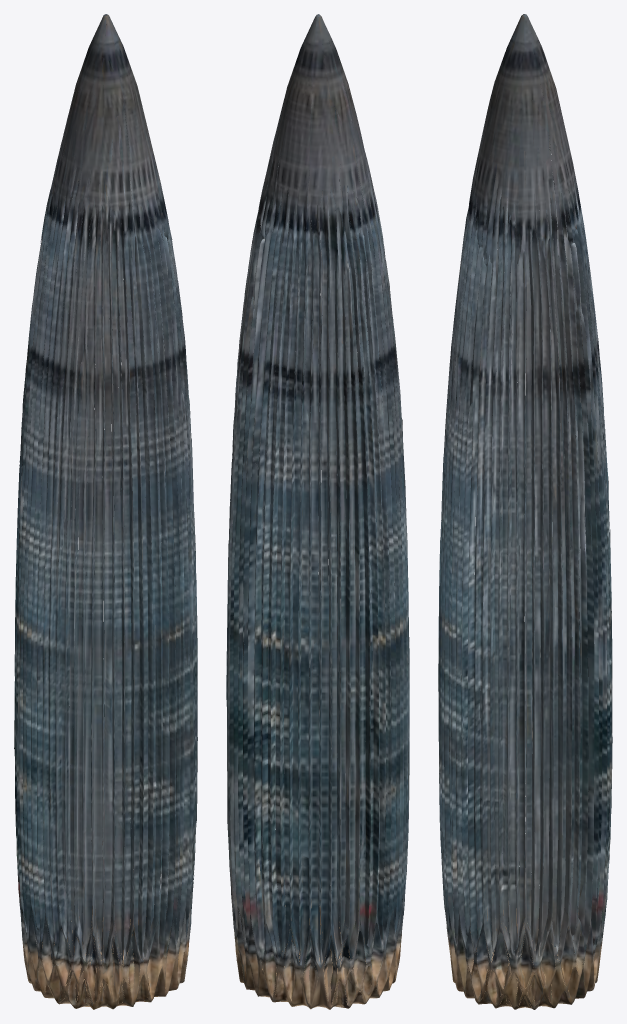
File: asset-08.glb
3 views of the same model, side by side, from view 1: azimuth 30°, elevation 25°; view 2: azimuth 150°, elevation 25°; view 3: azimuth 270°, elevation 25° (orthographic).
Parts seen in each view (by area): view 1: node_0; view 2: node_0; view 3: node_0.
Part boxes in pixels (x1,y1,x2,y2): node_0: (14, 14, 197, 1009); node_0: (226, 14, 409, 1009); node_0: (438, 14, 612, 1009).
Bounding box in the file's own units: 0.204 × 1.2 × 0.1949.
Materials: 1 (1 with a texture image).
